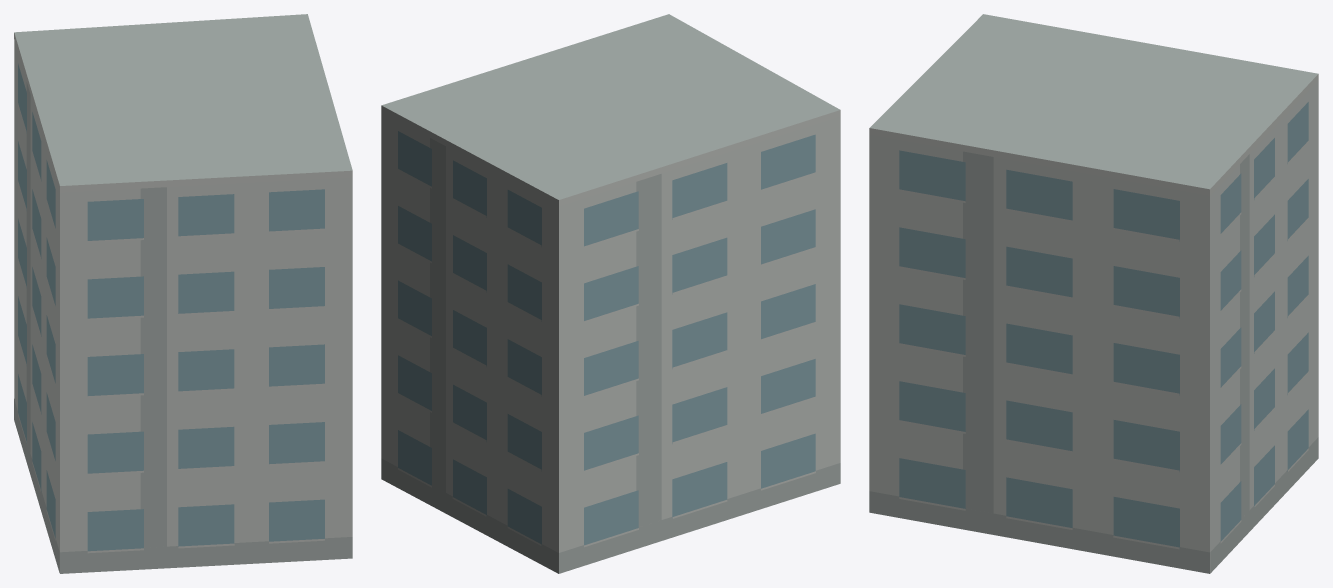
Rendered from survey-upis-32533327.glb.
3 views of the same model, side by side, from view 1: azimuth 30°, elevation 25°; view 2: azimuth 150°, elevation 25°; view 3: azimuth 270°, elevation 25° (orthographic). The views are drawn at different scales.
Parts seen in each view (by area): view 1: survey-upis-32533327.tmp; view 2: survey-upis-32533327.tmp; view 3: survey-upis-32533327.tmp.
Boxes of the visible parts, bbox=[...] form: survey-upis-32533327.tmp: bbox=[14, 14, 352, 573]; survey-upis-32533327.tmp: bbox=[381, 14, 840, 573]; survey-upis-32533327.tmp: bbox=[869, 14, 1318, 573].
Bounding box in the file's own units: 13.79 × 14.1 × 14.93.
